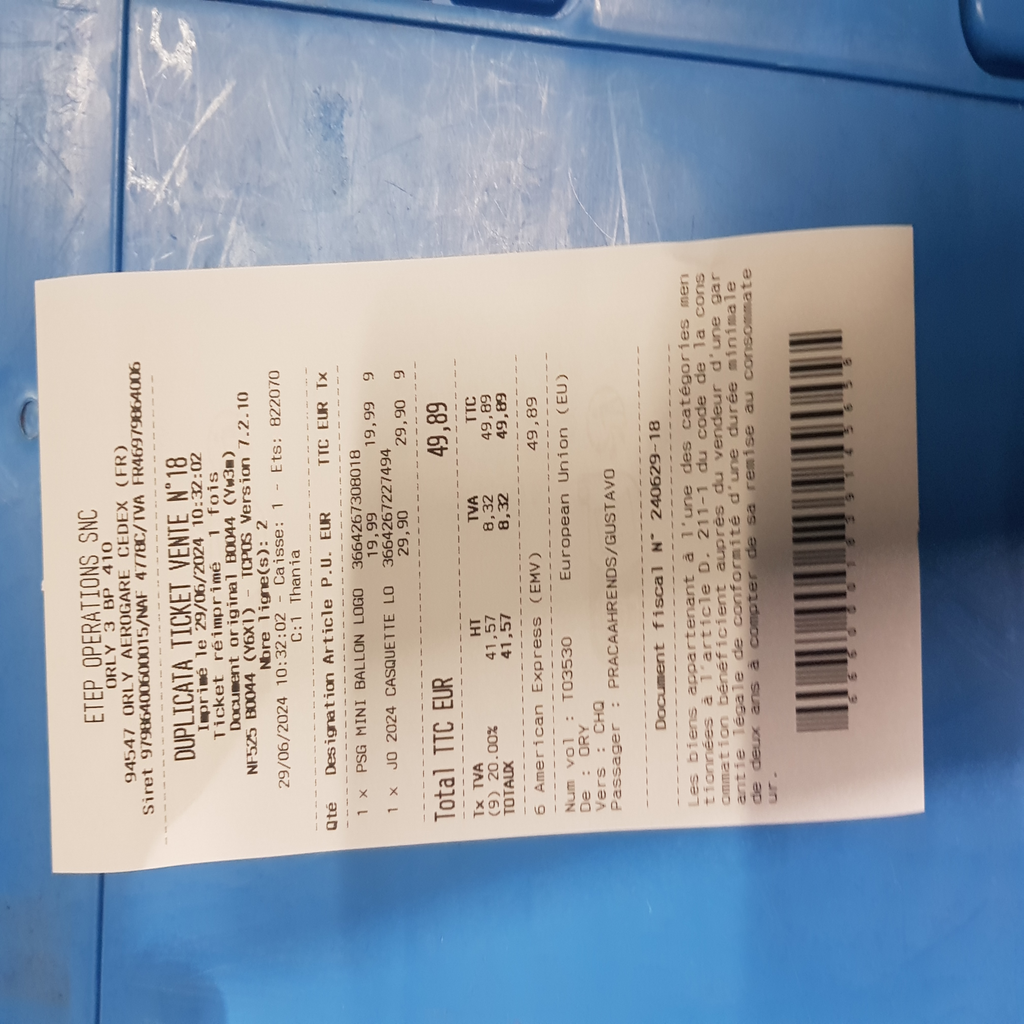recipt: (32, 222, 928, 877)
